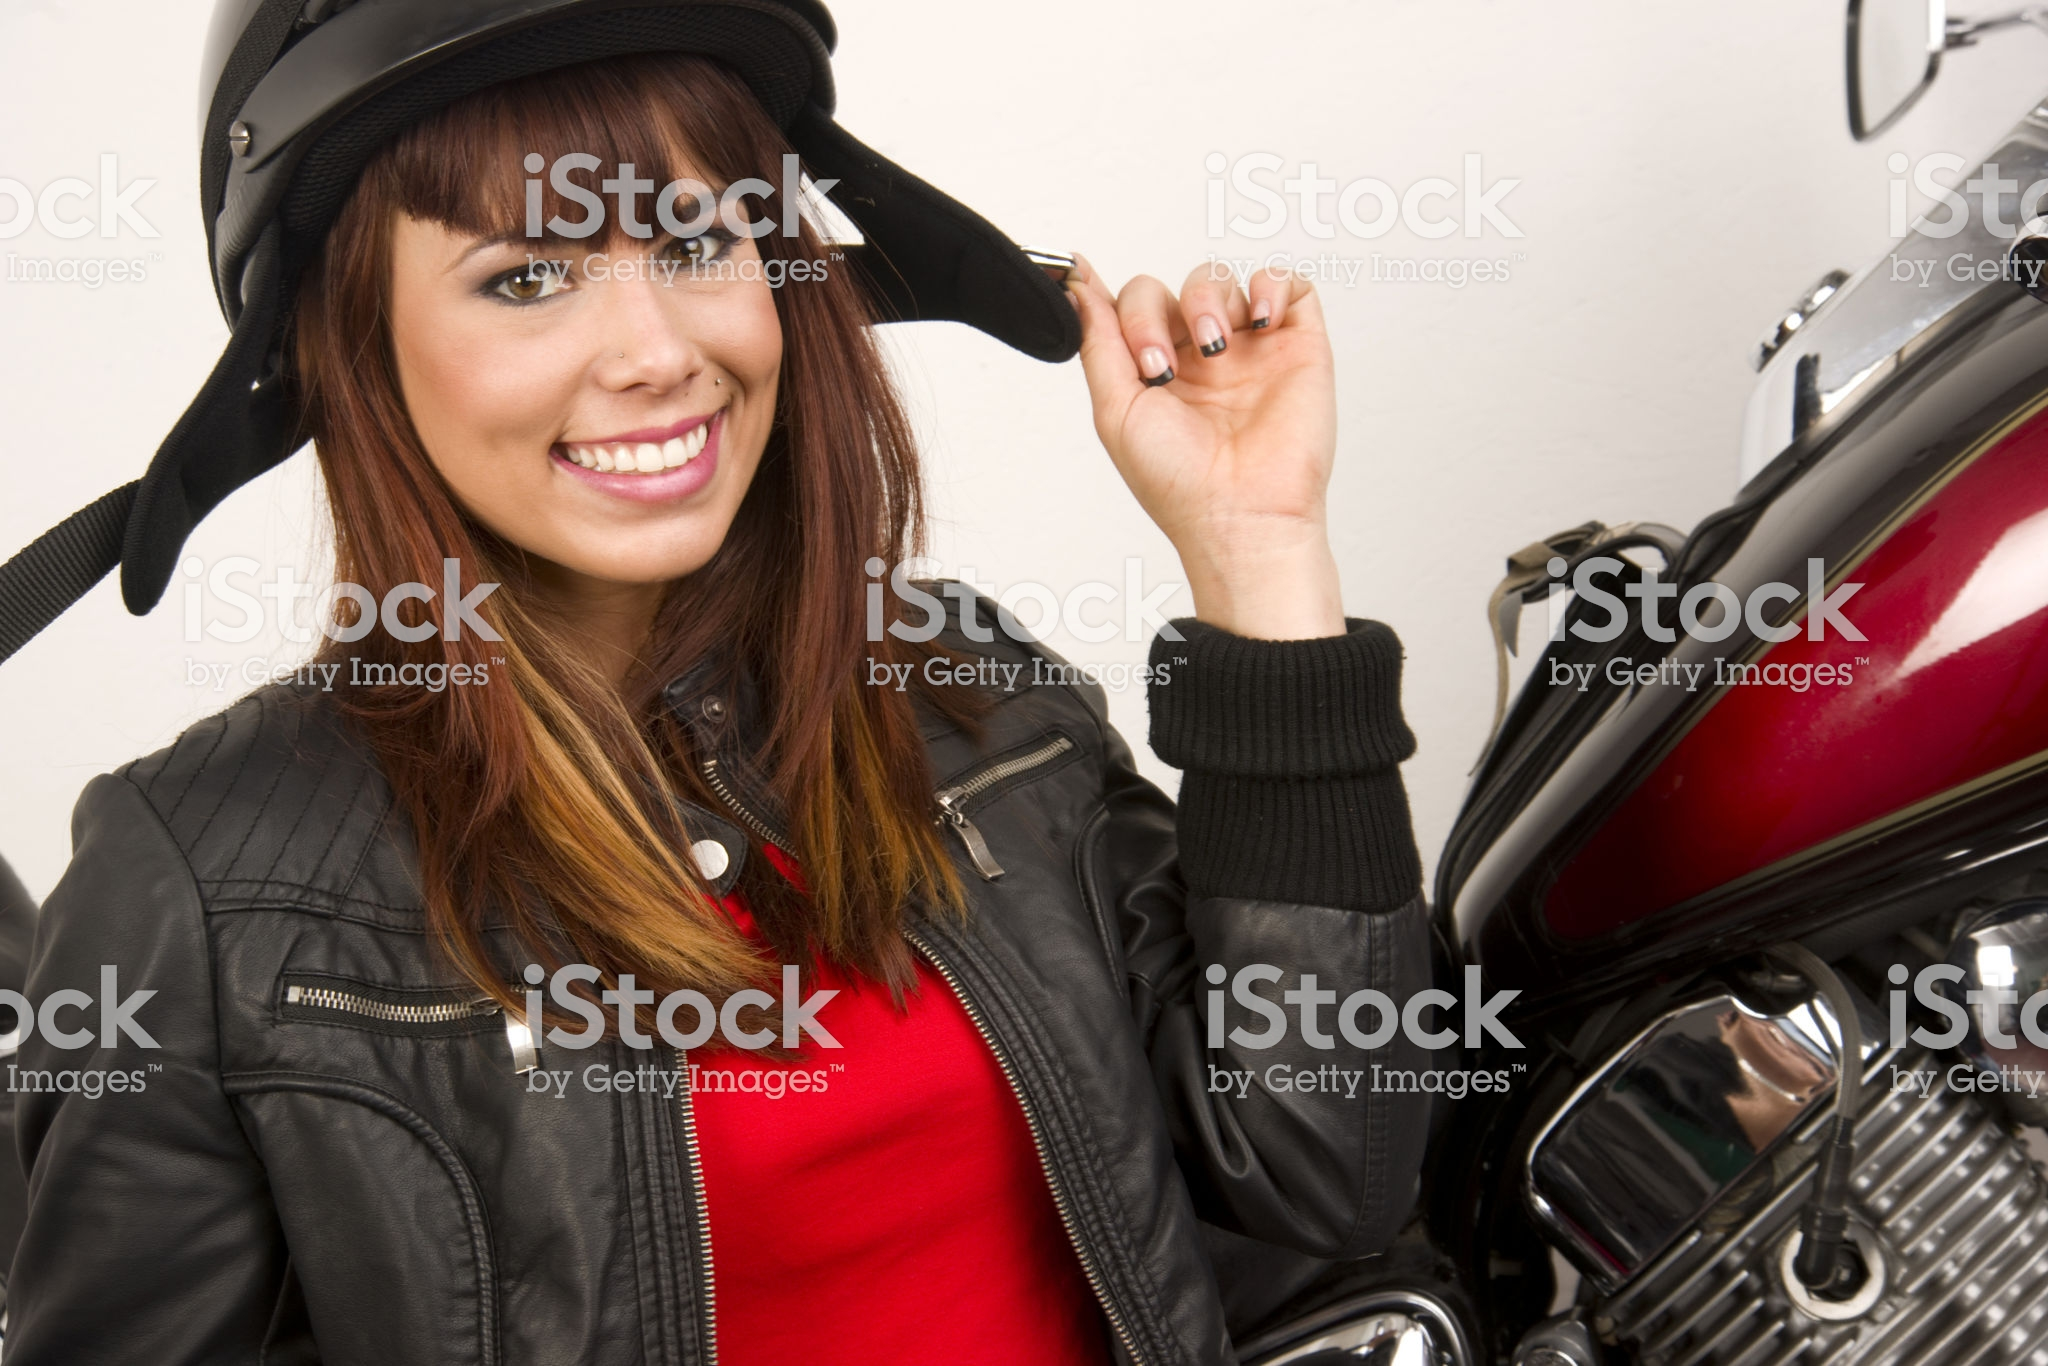helmet: (187, 5, 936, 258)
